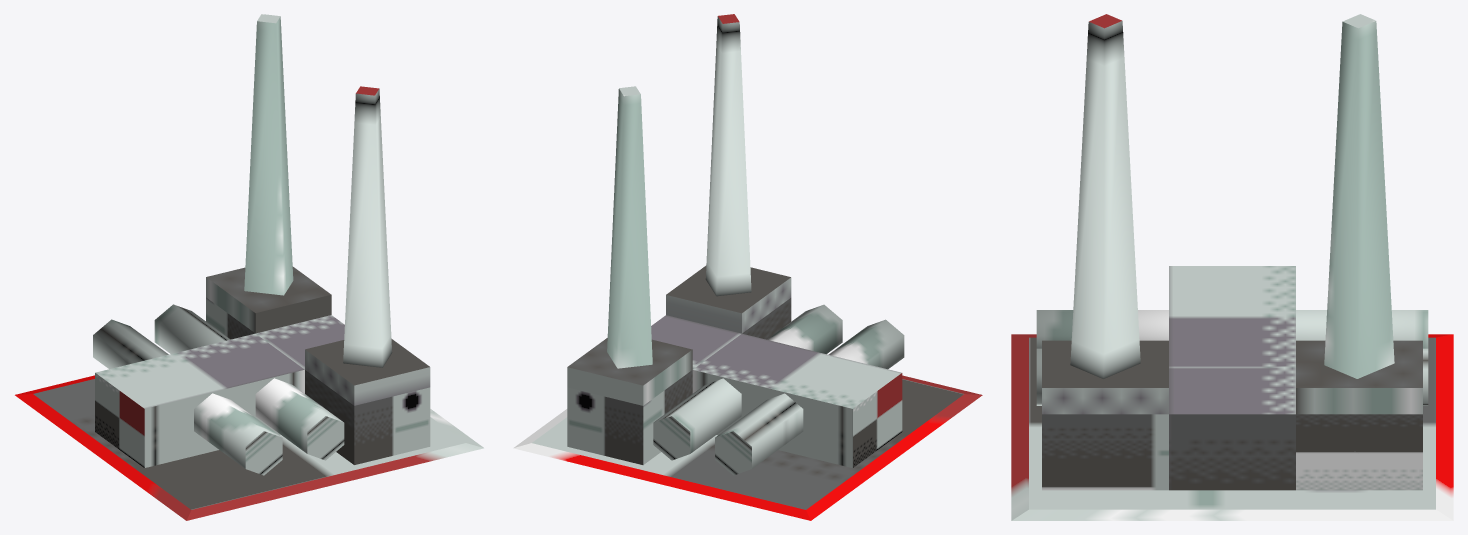
Rendered from Bld_Oil_Refinery_Large.fbx.
The picture shows the model from 3 angles, left to right: view 1: azimuth 30°, elevation 25°; view 2: azimuth 150°, elevation 25°; view 3: azimuth 270°, elevation 25°; orthographic projection. The views are drawn at different scales.
Parts seen in each view (by area): view 1: BLD_OilRefinery_Large; view 2: BLD_OilRefinery_Large; view 3: BLD_OilRefinery_Large.
Part boxes in pixels (bbox=[...]): BLD_OilRefinery_Large: bbox=[15, 14, 483, 520]; BLD_OilRefinery_Large: bbox=[513, 14, 982, 520]; BLD_OilRefinery_Large: bbox=[1011, 14, 1453, 520].
Size of the model in its own units: 789 by 789 by 885.
